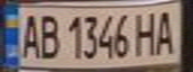1: (63, 11, 84, 60)
3: (78, 11, 100, 60)
4: (97, 11, 118, 60)
6: (112, 10, 136, 58)
A: (151, 7, 181, 56), (15, 10, 42, 60)
B: (36, 10, 60, 60)
H: (133, 8, 160, 56)
